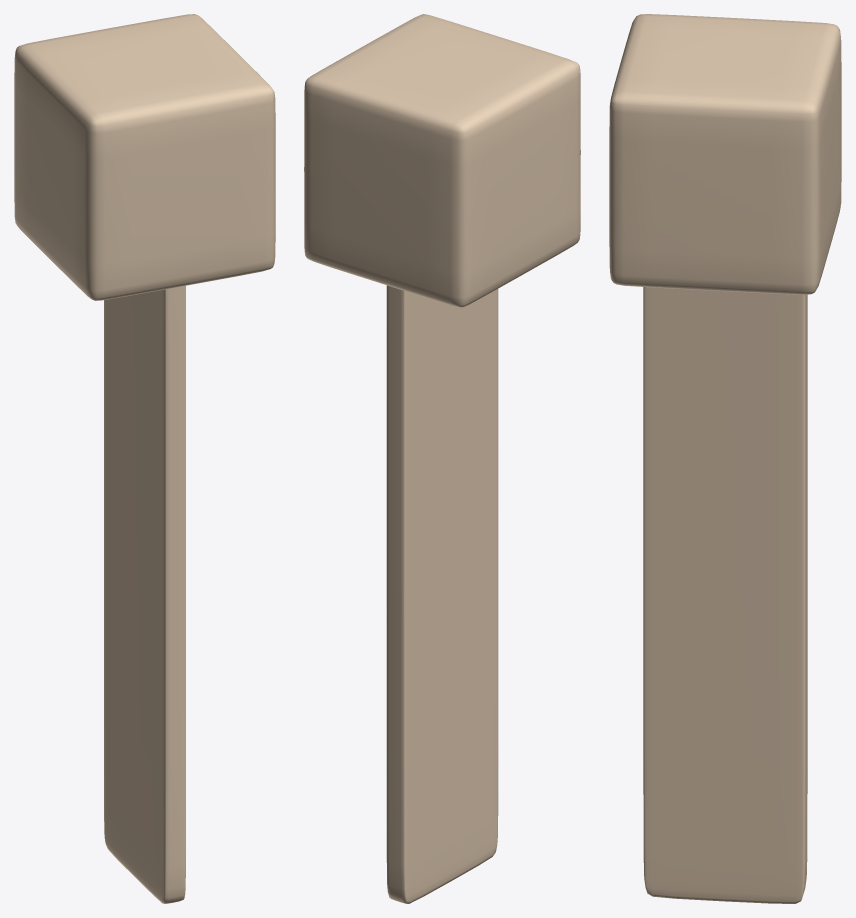
File: PROP_PicnicTable_v0.glb
The picture shows the model from 3 angles, left to right: view 1: azimuth 30°, elevation 25°; view 2: azimuth 150°, elevation 25°; view 3: azimuth 270°, elevation 25°; orthographic projection. The views are drawn at different scales.
Parts seen in each view (by area): view 1: PROP_PicnicTable_v0; view 2: PROP_PicnicTable_v0; view 3: PROP_PicnicTable_v0.
Part boxes in pixels (x1,y1,x2,y2): PROP_PicnicTable_v0: (14,14,275,903); PROP_PicnicTable_v0: (304,14,580,903); PROP_PicnicTable_v0: (609,14,841,903).
Size of the model in its own units: 1.09 by 4.34 by 1.09.
